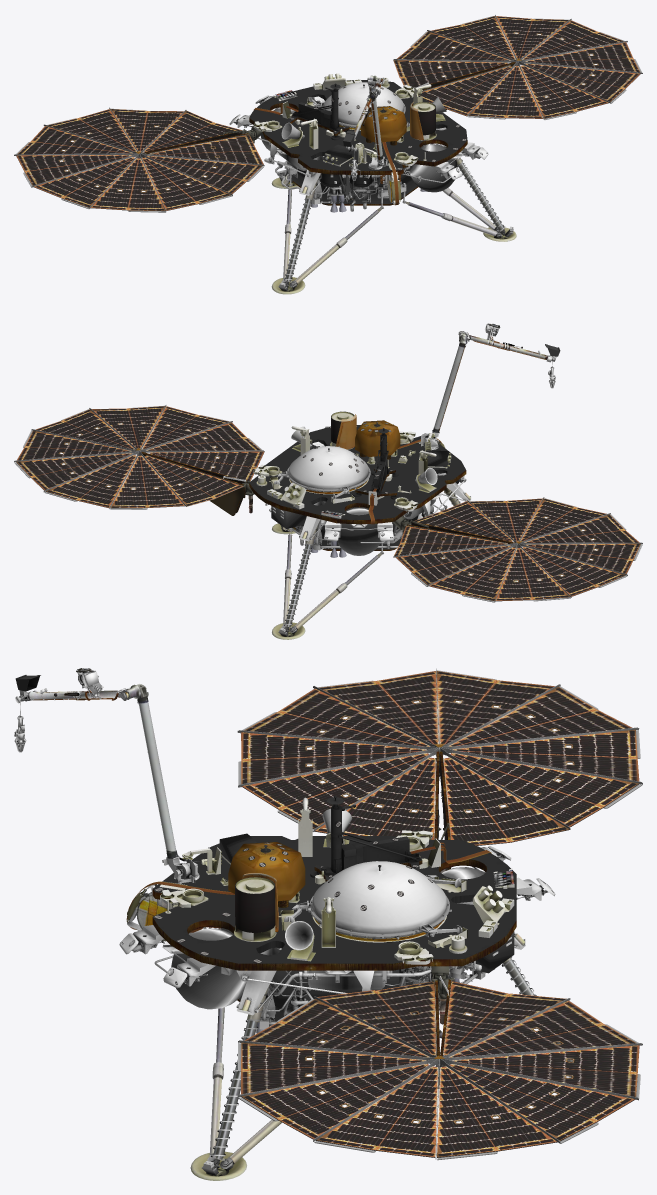
The model's file is insight.glb.
3 renders of one model, top to bottom at view 1: azimuth 30°, elevation 25°; view 2: azimuth 150°, elevation 25°; view 3: azimuth 270°, elevation 25°, orthographic. The views are drawn at different scales.
Parts seen in each view (by area): view 1: Lander Deployed Simplified coarse.1043, leg_l, leg_r, Cylinder.000, SEIS, HP3_v3d_baked, Cube.056, Cube.095, Cube.055, Cube.051, Cube.079, Cube.001 (+38 smaller); view 2: Lander Deployed Simplified coarse.1043, Cylinder.000, leg_b, SEIS, Cube.047, Cube.083, Cube.081, Cube.078, Cube.064, Cube.085, Cube.061, Cube.049 (+39 smaller); view 3: Lander Deployed Simplified coarse.1043, Cylinder.000, leg_r, Cube.089, Cube.091, Cube.060, Cube.059, Cube.087, HP3_v3d_baked, Cube.057, SEIS, Cube.086 (+38 smaller).
Boxes of the visible parts, box(x1,y1,x2,y2) form: Lander Deployed Simplified coarse.1043: box(229, 73, 488, 212); leg_l: box(271, 178, 383, 294); leg_r: box(403, 146, 516, 241); Cylinder.000: box(313, 82, 405, 128); SEIS: box(361, 106, 406, 145); HP3_v3d_baked: box(287, 83, 351, 140); Cube.056: box(144, 157, 232, 204); Cube.095: box(468, 66, 517, 119); Cube.055: box(147, 155, 264, 181); Cube.051: box(128, 158, 165, 212); Cube.079: box(393, 60, 507, 77); Cube.001: box(33, 157, 133, 198); Lander Deployed Simplified coarse.1043: box(245, 424, 471, 557); Cylinder.000: box(277, 446, 370, 493); leg_b: box(272, 523, 383, 639); SEIS: box(355, 420, 400, 459); Cube.047: box(523, 546, 627, 587); Cube.083: box(44, 455, 135, 501); Cube.081: box(110, 456, 147, 509); Cube.078: box(145, 455, 243, 498); Cube.064: box(519, 548, 570, 601); Cube.085: box(14, 453, 131, 478); Cube.061: box(429, 547, 513, 594); Cube.049: box(525, 543, 642, 560); Lander Deployed Simplified coarse.1043: box(119, 830, 555, 1033); Cylinder.000: box(292, 861, 451, 939); leg_r: box(190, 985, 281, 1180); Cube.089: box(314, 1066, 435, 1152); Cube.091: box(238, 1063, 428, 1121); Cube.060: box(450, 752, 642, 808); Cube.059: box(447, 757, 569, 842); Cube.087: box(437, 1067, 497, 1160); HP3_v3d_baked: box(310, 795, 422, 885); Cube.057: box(241, 753, 428, 809); SEIS: box(228, 842, 305, 907); Cube.086: box(444, 1066, 557, 1151).
Bounding box in the file's own units: 6.14 × 2.17 × 3.33.
11 materials, 11 textured.
